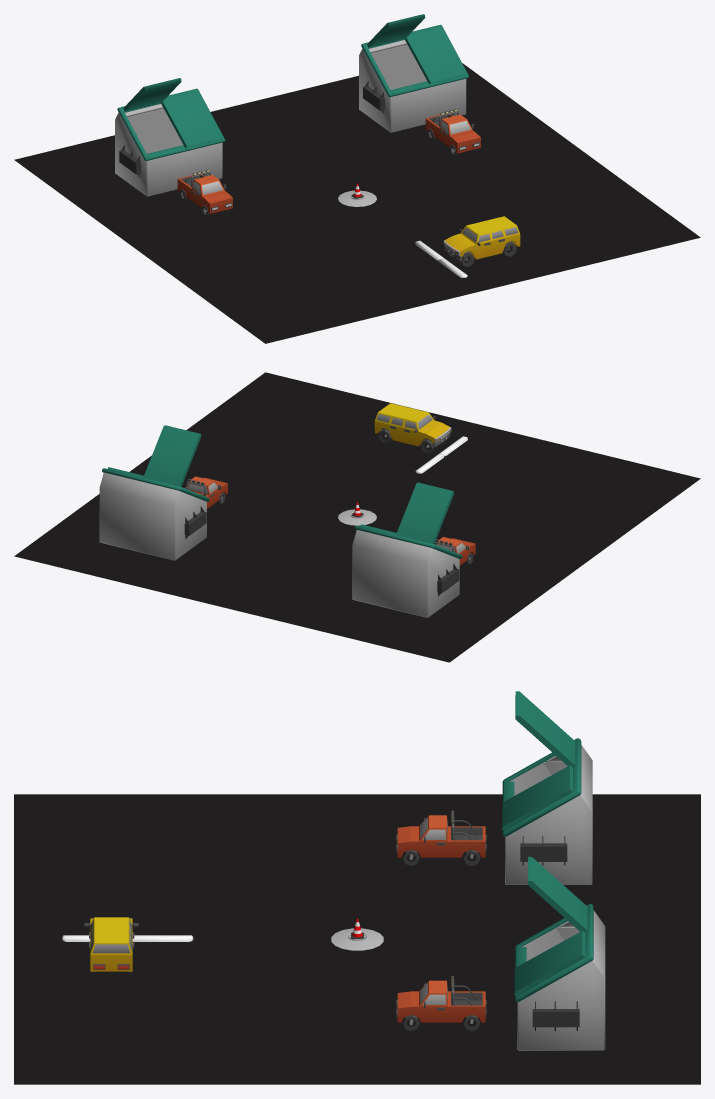
File: Tile 10_Combined_2.fbx
The picture shows the model from 3 angles, top to bottom: view 1: azimuth 30°, elevation 25°; view 2: azimuth 150°, elevation 25°; view 3: azimuth 270°, elevation 25°; orthographic projection. The views are drawn at different scales.
Visible parts, largest first — view 1: MeshBaker_Cluster_0_mesh_mesh; view 2: MeshBaker_Cluster_0_mesh_mesh; view 3: MeshBaker_Cluster_0_mesh_mesh.
Part boxes in pixels (x1,y1,x2,y2): MeshBaker_Cluster_0_mesh_mesh: [14, 14, 700, 343]; MeshBaker_Cluster_0_mesh_mesh: [14, 372, 700, 662]; MeshBaker_Cluster_0_mesh_mesh: [14, 691, 700, 1084].
Bounding box in the file's own units: 3000 × 700 × 3000.
